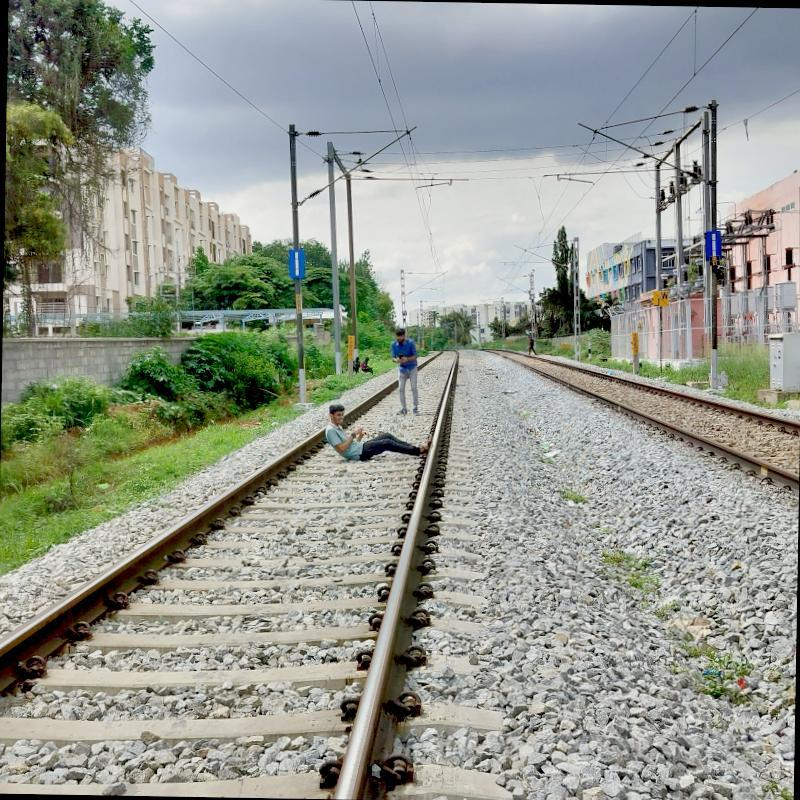sleeping: (320, 401, 434, 462)
